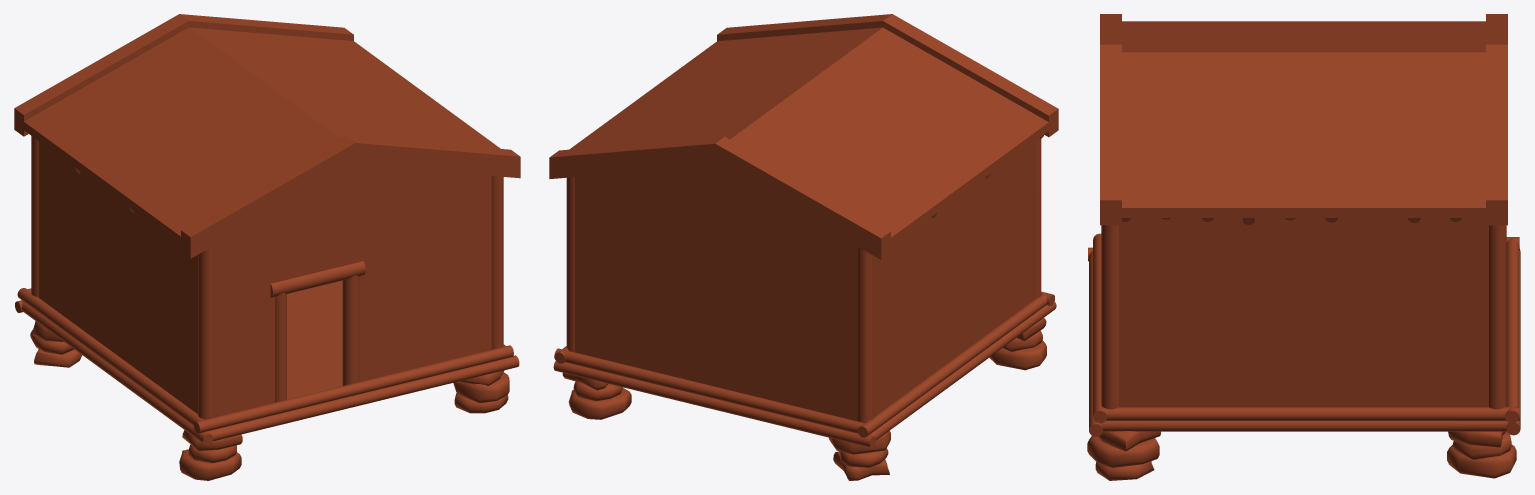
File: hut.gltf
3 views of the same model, side by side, from view 1: azimuth 30°, elevation 25°; view 2: azimuth 150°, elevation 25°; view 3: azimuth 270°, elevation 25° (orthographic). The views are drawn at different scales.
Parts seen in each view (by area): view 1: Cube; view 2: Cube; view 3: Cube.
Part boxes in pixels (left/top/right/bottom): Cube: left=14, top=14, right=520, bottom=480; Cube: left=549, top=14, right=1058, bottom=480; Cube: left=1087, top=14, right=1520, bottom=480.
Bounding box in the file's own units: 320 × 281 × 314.
